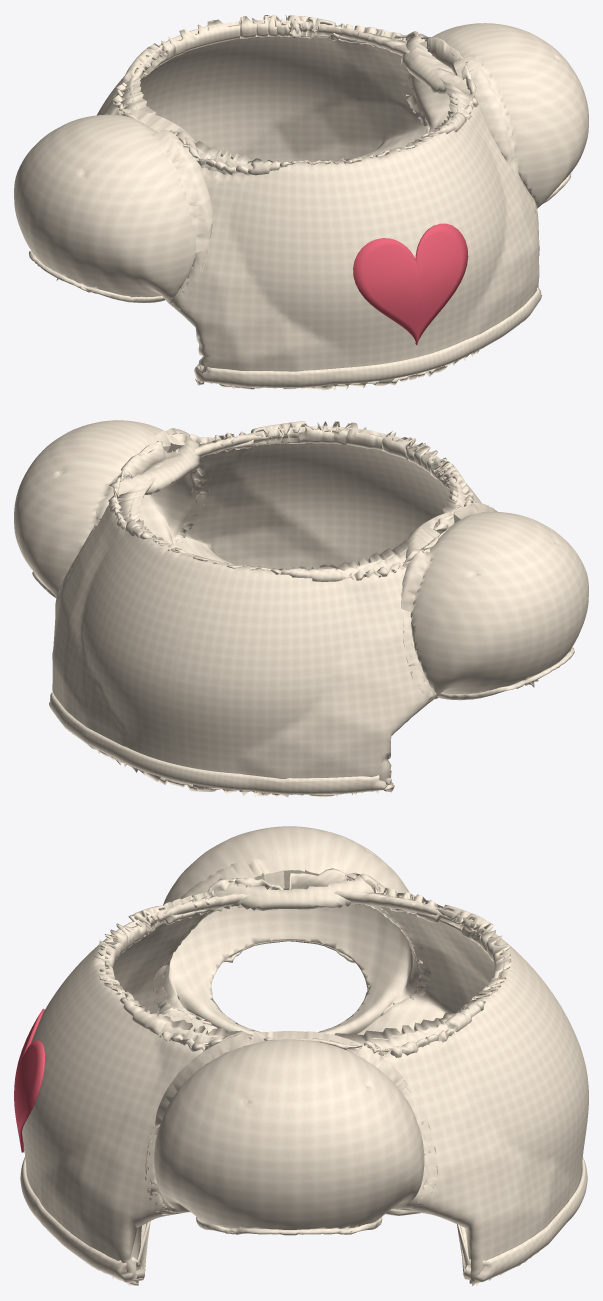
The model's file is original_surface_shirt_chick.glb.
The picture shows the model from 3 angles, top to bottom: view 1: azimuth 30°, elevation 25°; view 2: azimuth 150°, elevation 25°; view 3: azimuth 270°, elevation 25°; orthographic projection. The views are drawn at different scales.
Visible parts, largest first — view 1: Manga adaptada - Camiseta original continua, CorazÃ³n bordado, Dobladillo ancho adaptado.001, Dobladillo ancho adaptado, Dobladillo ancho adaptado.003; view 2: Manga adaptada - Camiseta original continua, Dobladillo ancho adaptado.001, Dobladillo ancho adaptado, Dobladillo ancho adaptado.003; view 3: Manga adaptada - Camiseta original continua, Dobladillo ancho adaptado.001, Dobladillo ancho adaptado, CorazÃ³n bordado, Dobladillo ancho adaptado.002.
Part boxes in pixels (left/top/right/bottom): Manga adaptada - Camiseta original continua: left=14, top=19, right=588, bottom=390; CorazÃ³n bordado: left=353, top=223, right=468, bottom=344; Dobladillo ancho adaptado.001: left=112, top=14, right=478, bottom=175; Dobladillo ancho adaptado: left=194, top=287, right=541, bottom=388; Dobladillo ancho adaptado.003: left=28, top=251, right=165, bottom=302; Manga adaptada - Camiseta original continua: left=14, top=420, right=588, bottom=797; Dobladillo ancho adaptado.001: left=108, top=421, right=473, bottom=581; Dobladillo ancho adaptado: left=49, top=680, right=538, bottom=794; Dobladillo ancho adaptado.003: left=437, top=647, right=574, bottom=700; Manga adaptada - Camiseta original continua: left=22, top=826, right=588, bottom=1286; Dobladillo ancho adaptado.001: left=94, top=868, right=511, bottom=1057; Dobladillo ancho adaptado: left=20, top=1156, right=587, bottom=1283; CorazÃ³n bordado: left=14, top=1008, right=45, bottom=1152; Dobladillo ancho adaptado.002: left=196, top=1217, right=382, bottom=1235.
Bounding box in the file's own units: 0.7614 × 0.2968 × 0.6074.
Materials: 3 (1 with a texture image).
